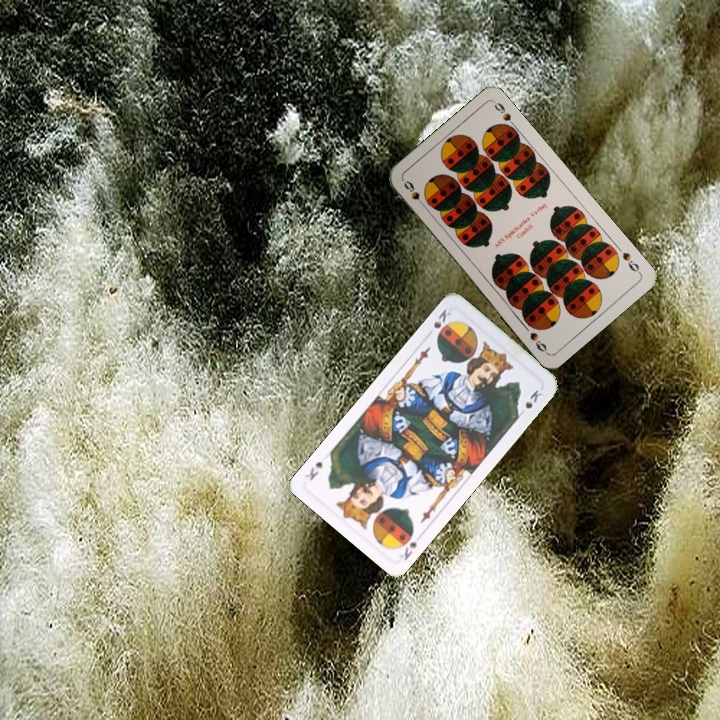S9: (400, 177, 429, 211), (618, 248, 644, 276)
SK: (394, 527, 424, 563), (423, 305, 454, 339)
